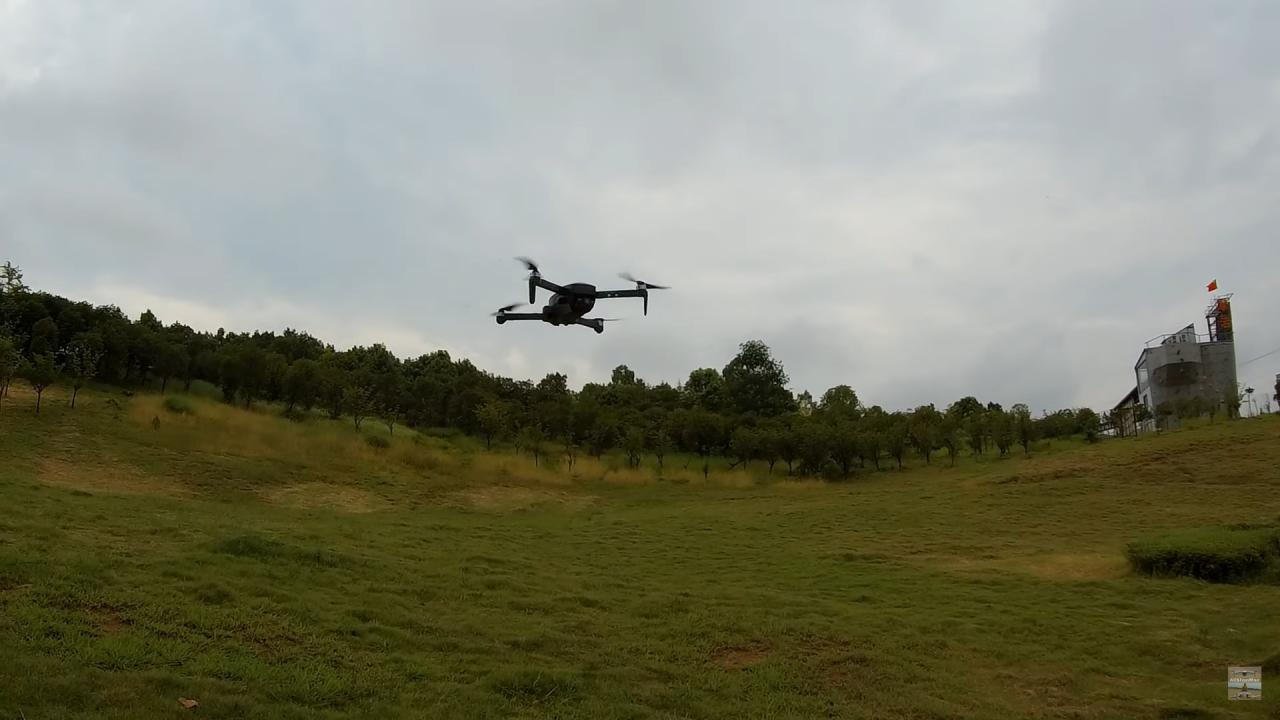Drone: (476, 243, 686, 351)
